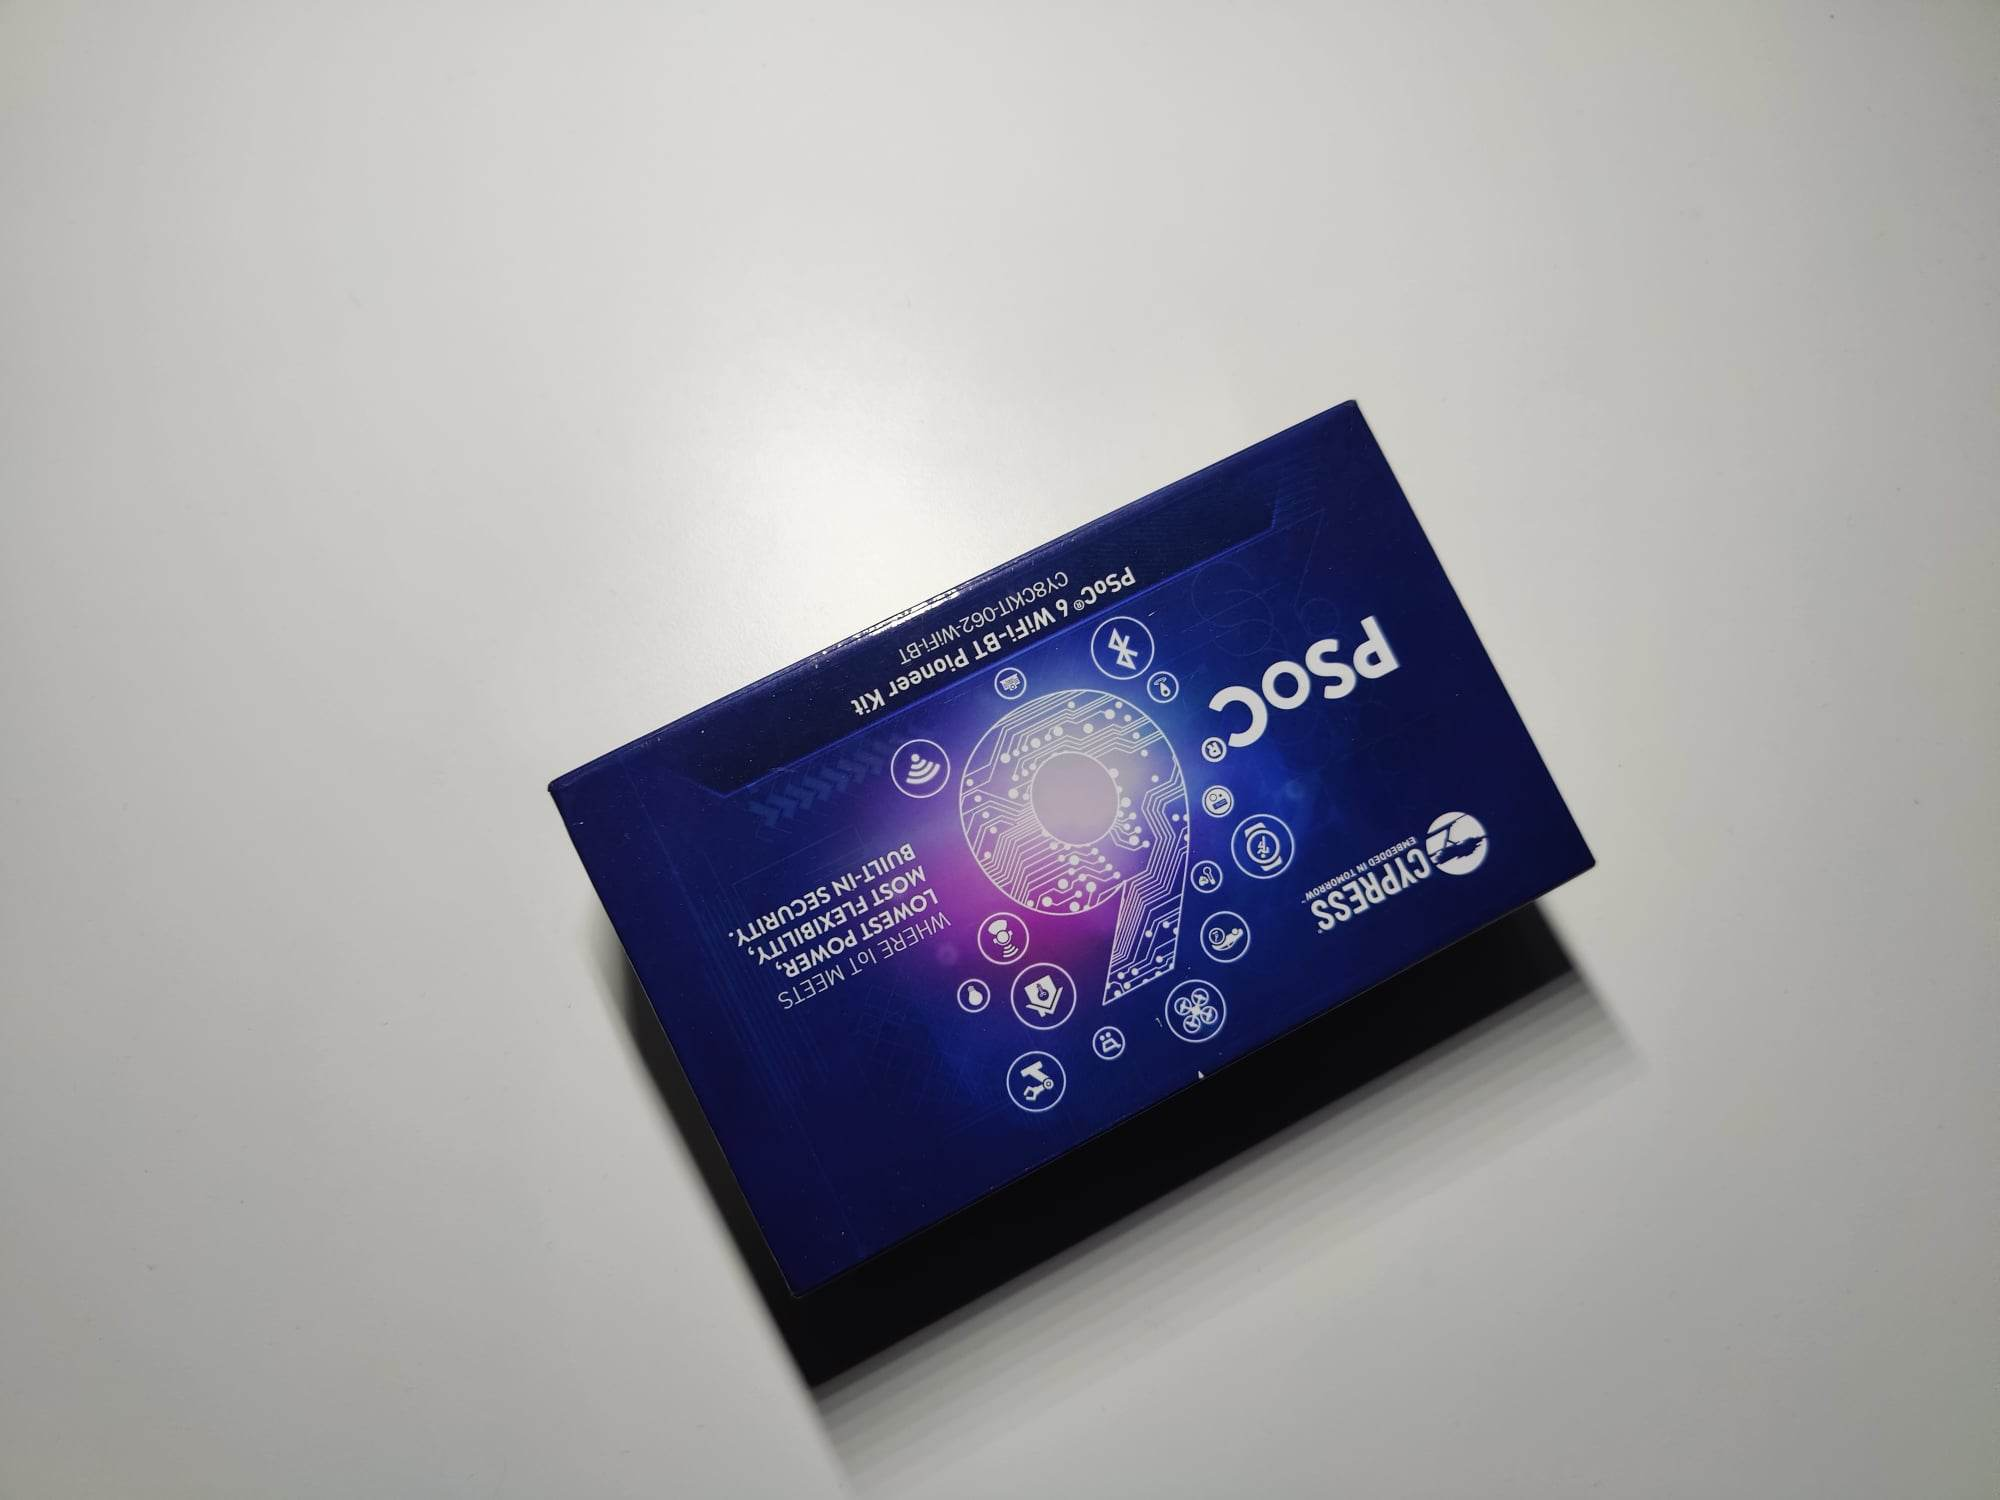PSoC_6: (482, 380, 1635, 1366)
